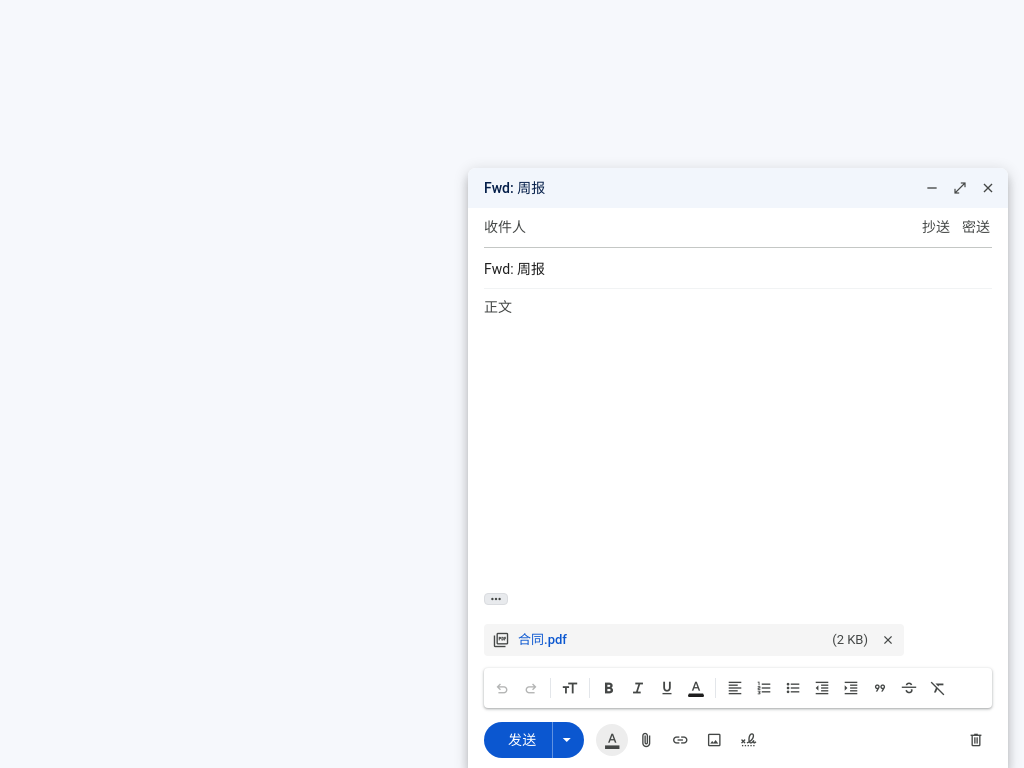
Test: forwarding keeps the original attachments (F1) › an original attachment removed before the first save is dropped from the draft
This screenshot has width=1024, height=768.
Expected: the field named "主题" is shown, [484,248,992,288]
Click the button named "移除附件 合同.pdf". click: (888, 640)
box: [876,628,900,652]
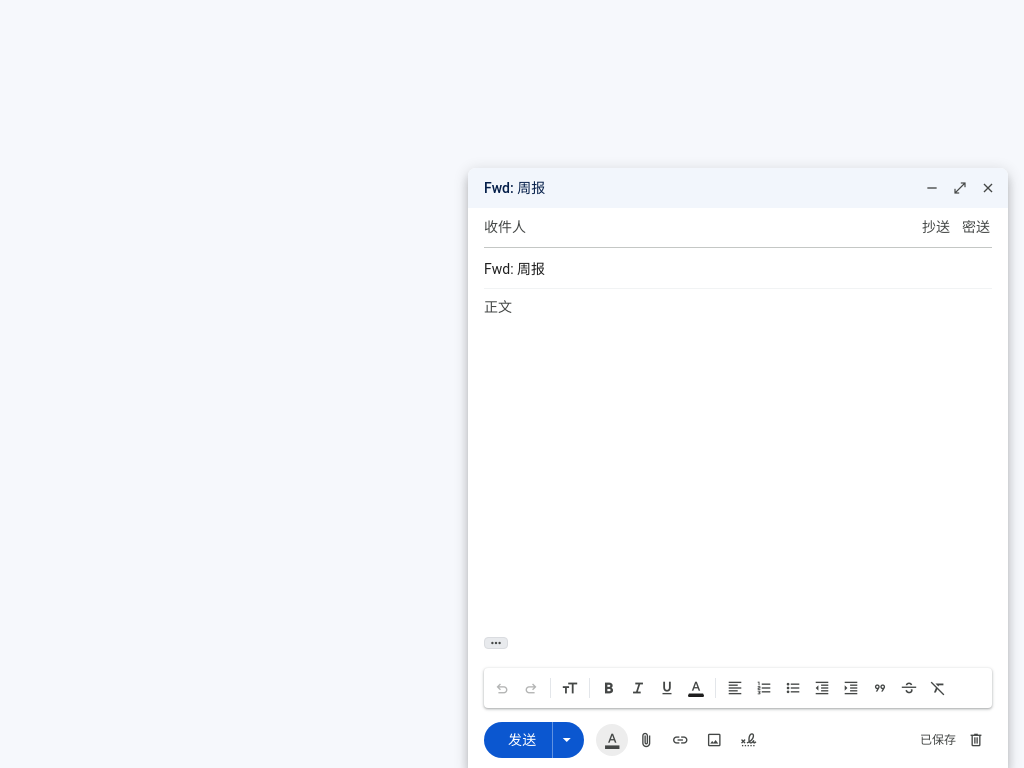
Now the link "合同.pdf" is gone
